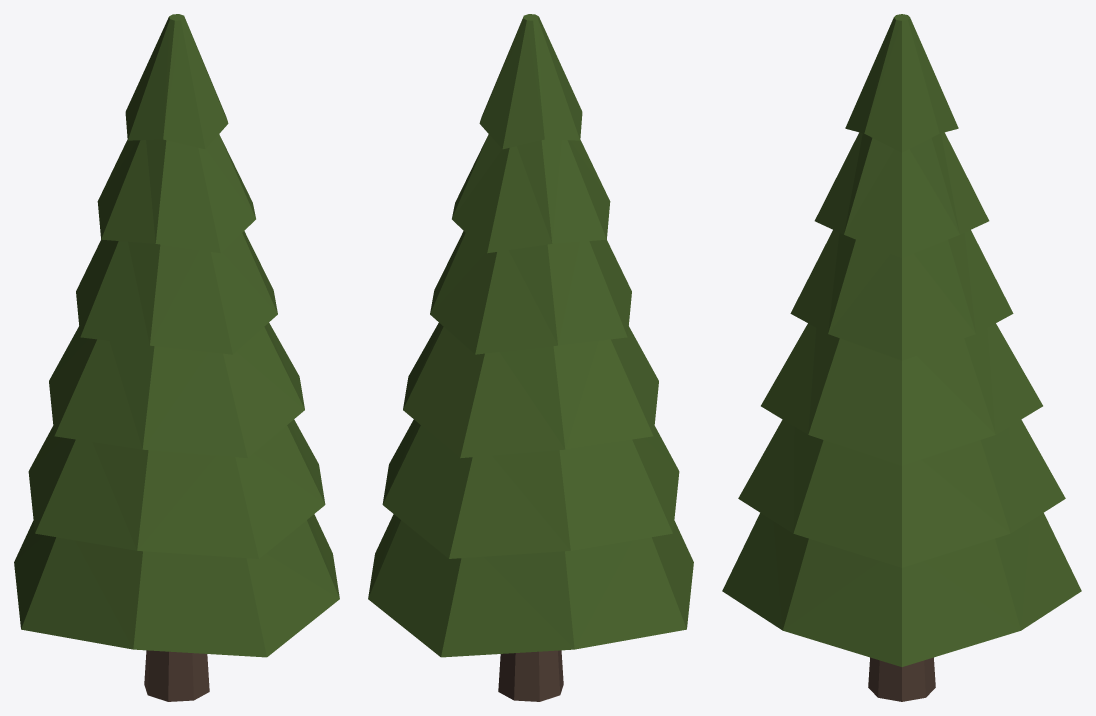
File: tree2.dae
The picture shows the model from 3 angles, left to right: view 1: azimuth 30°, elevation 25°; view 2: azimuth 150°, elevation 25°; view 3: azimuth 270°, elevation 25°; orthographic projection.
Parts seen in each view (by area): view 1: Cylinder_008; view 2: Cylinder_008; view 3: Cylinder_008.
Part boxes in pixels (x1,y1,x2,y2): Cylinder_008: [14, 14, 339, 701]; Cylinder_008: [368, 14, 693, 701]; Cylinder_008: [722, 14, 1081, 701].
Size of the model in its own units: 1.35 by 1.35 by 2.77.
